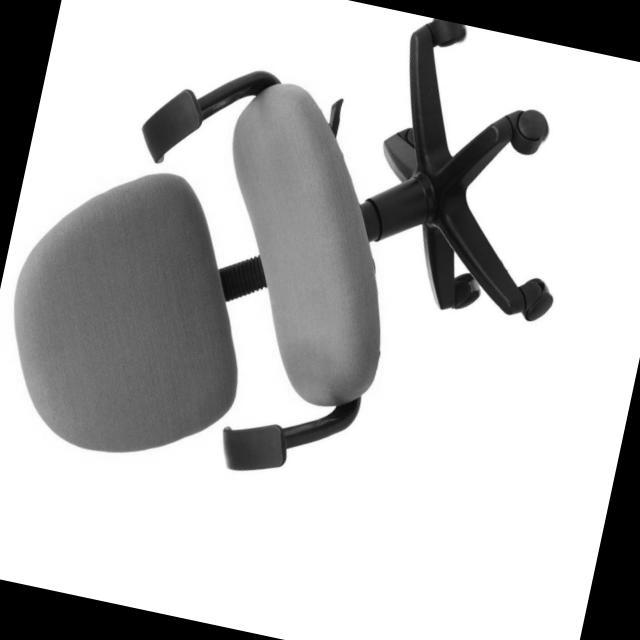chair: (0, 0, 613, 547)
